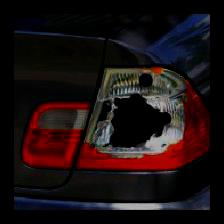tail_lamp: (89, 62, 187, 158)
